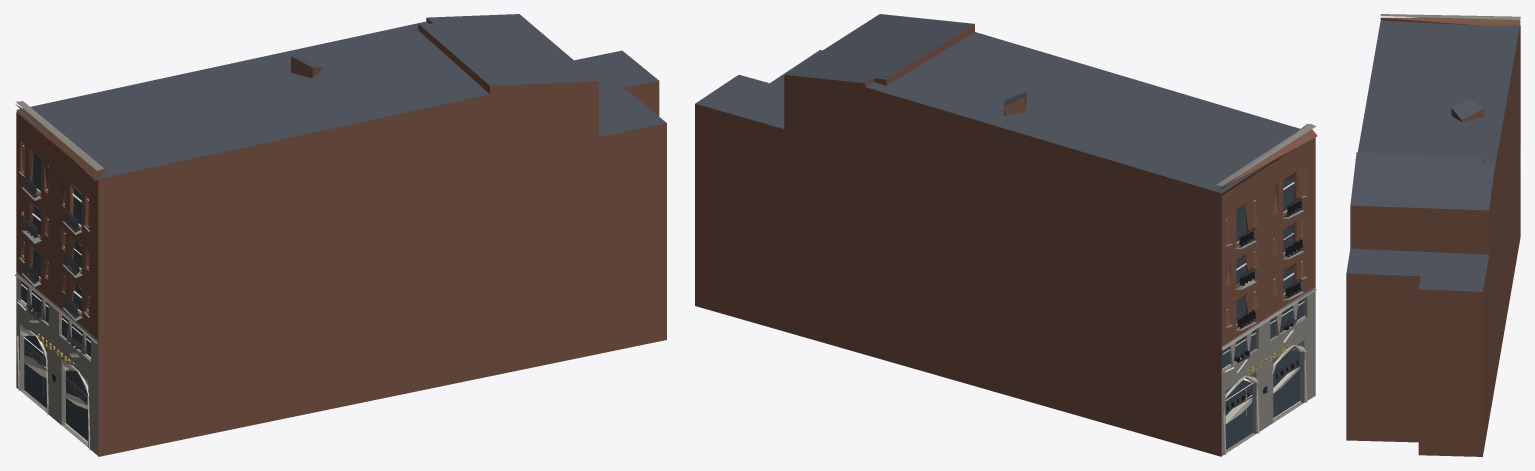
The model's file is cristofori.lod1.glb.
3 views of the same model, side by side, from view 1: azimuth 30°, elevation 25°; view 2: azimuth 150°, elevation 25°; view 3: azimuth 270°, elevation 25° (orthographic). The views are drawn at different scales.
Parts seen in each view (by area): view 1: cristofori; view 2: cristofori; view 3: cristofori.
Part boxes in pixels (x1,y1,x2,y2): cristofori: [15, 14, 666, 456]; cristofori: [695, 14, 1317, 456]; cristofori: [1346, 14, 1520, 456].
Size of the model in its own units: 43.45 by 20.77 by 14.28.
